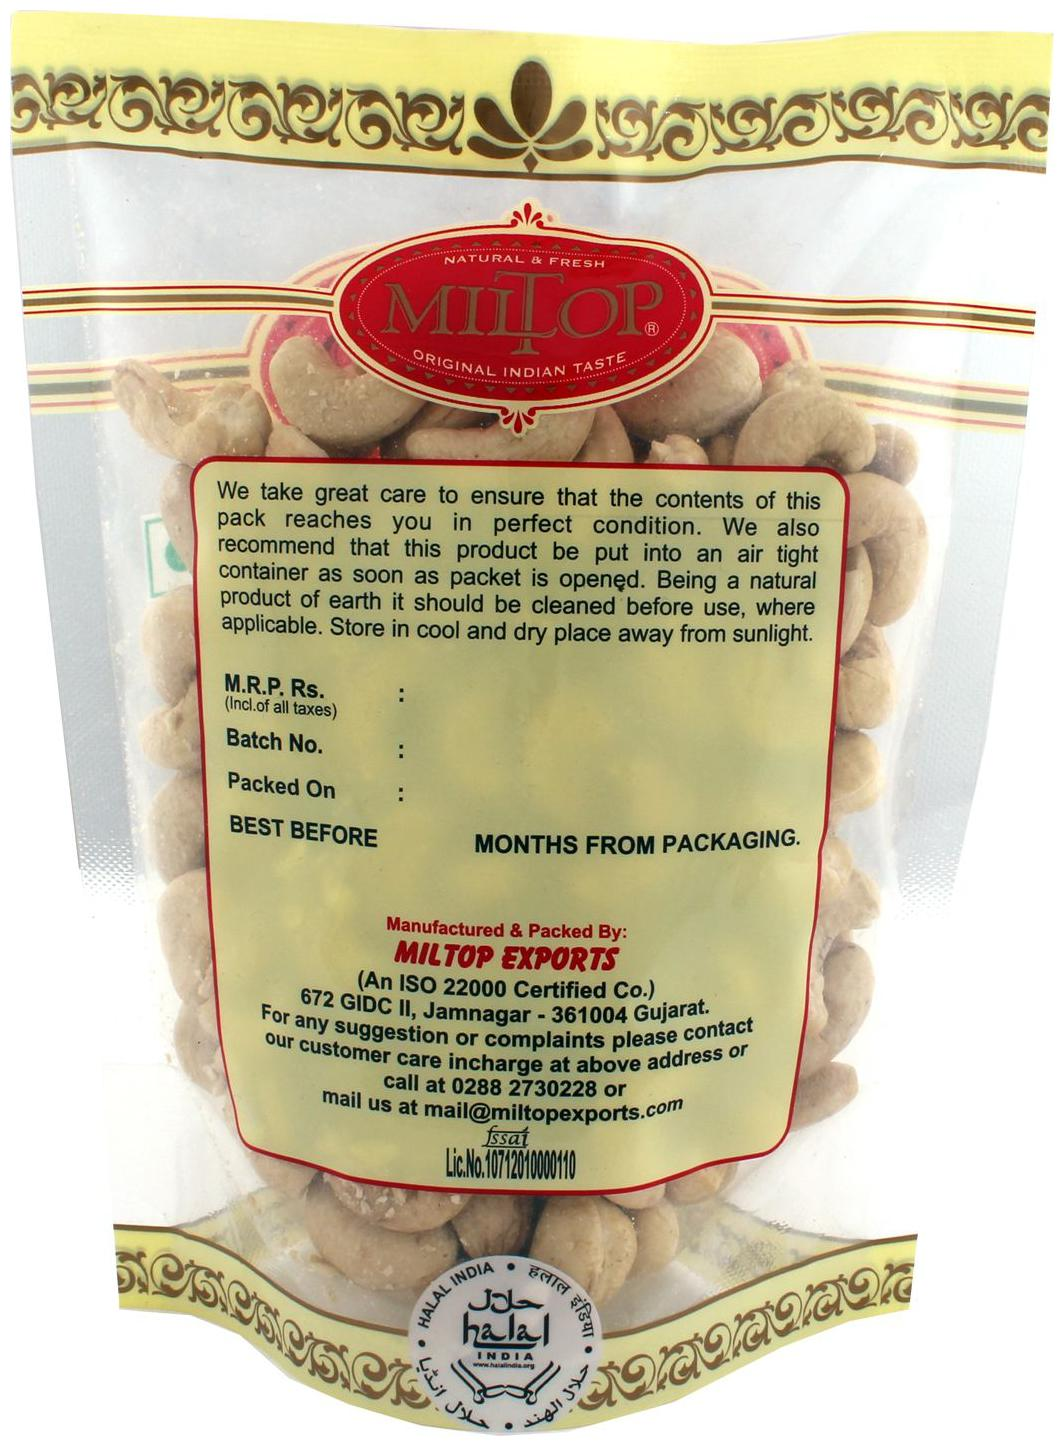fssai: (480, 1123, 532, 1148)
